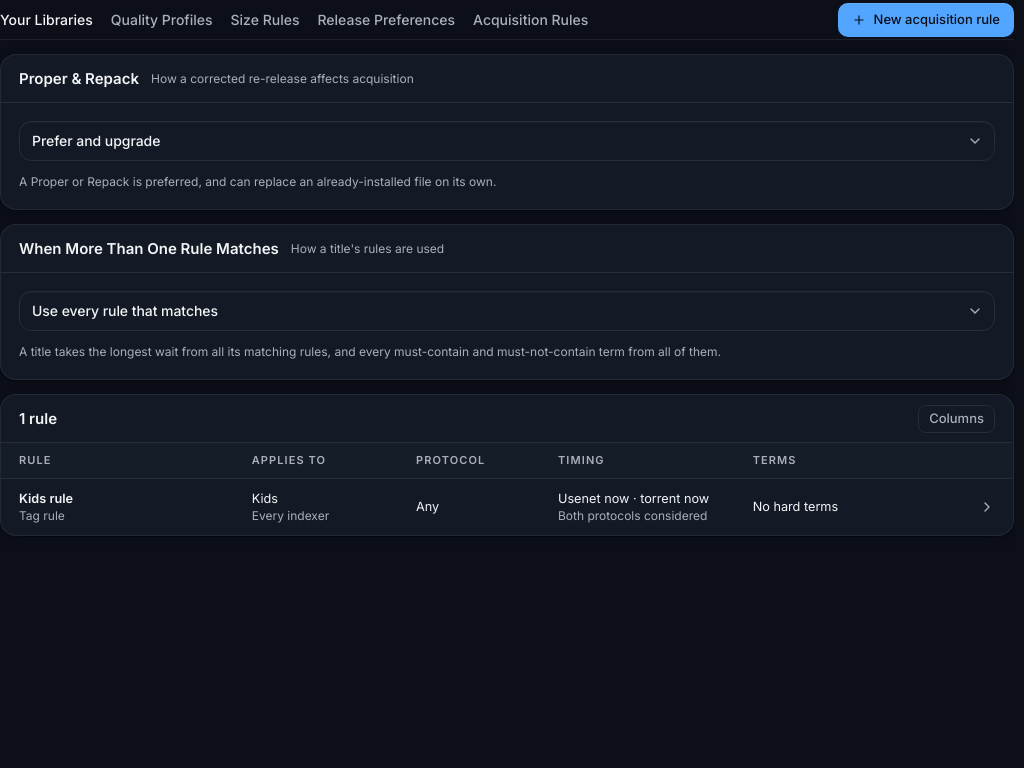
Test: acquisition rule drawer › shows the server's own message in the drawer when the save is refused
Click the text "Kids rule" at (46, 498), box [19,491,73,506]
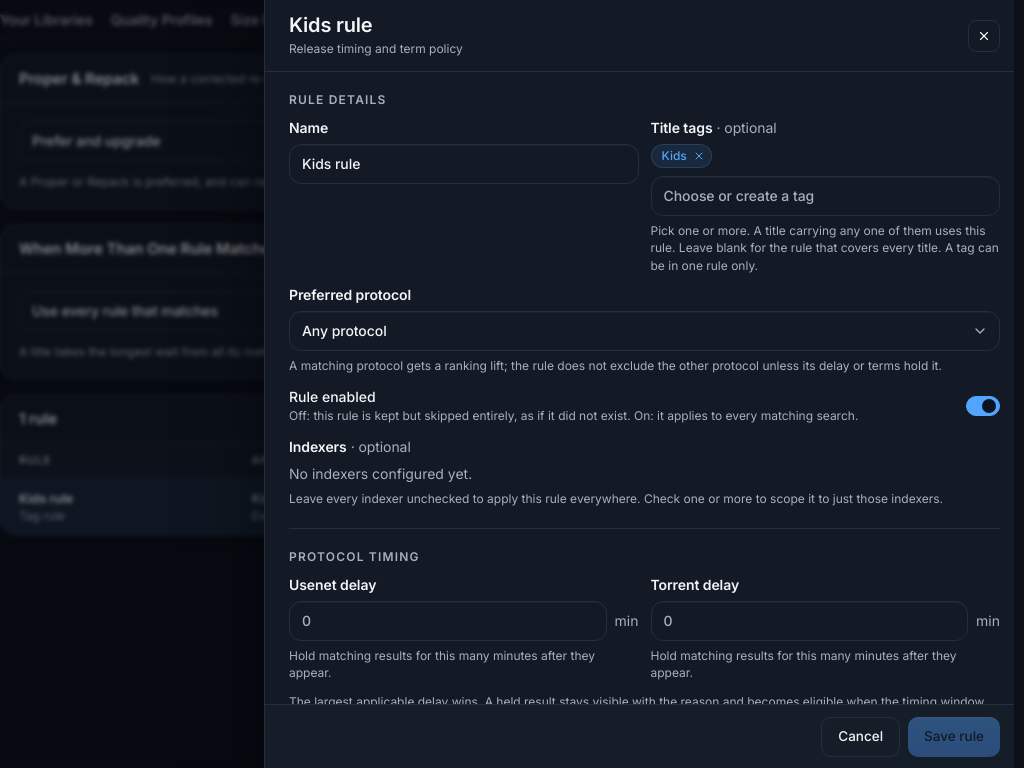
Check: the dialog is shown
Replace the text in the field with placeholder "Global release timing" with "Kids rule 2" at (464, 164), box [289,144,638,184]
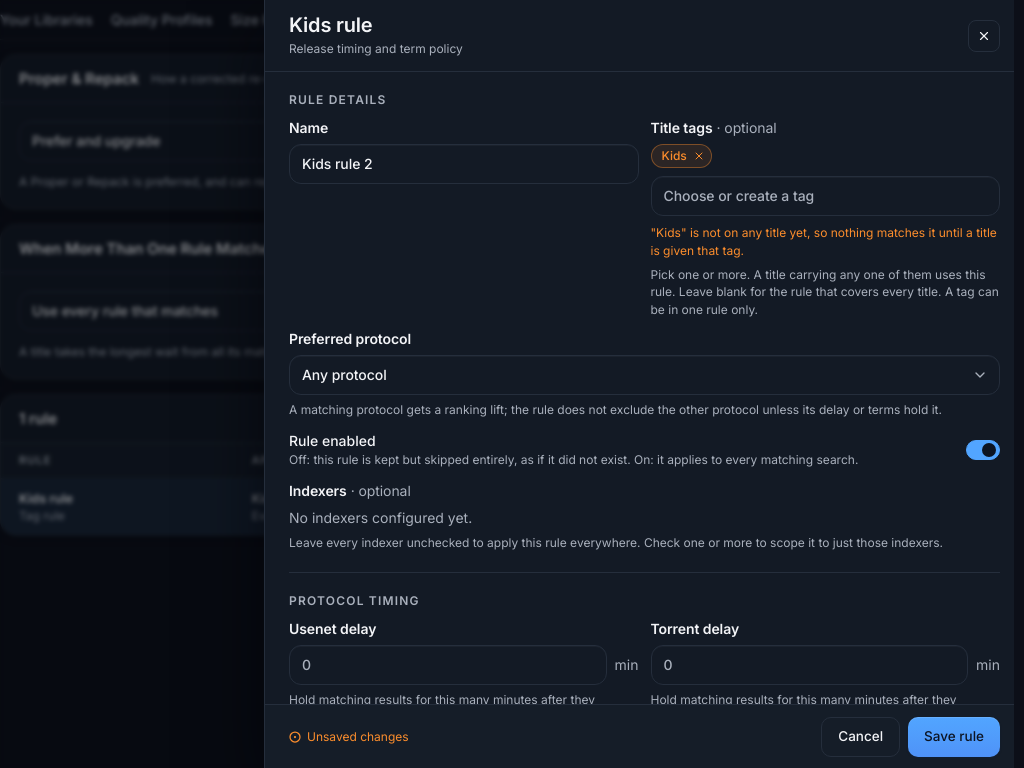
Click the button "Save rule" at (954, 736), box [908,716,1000,756]
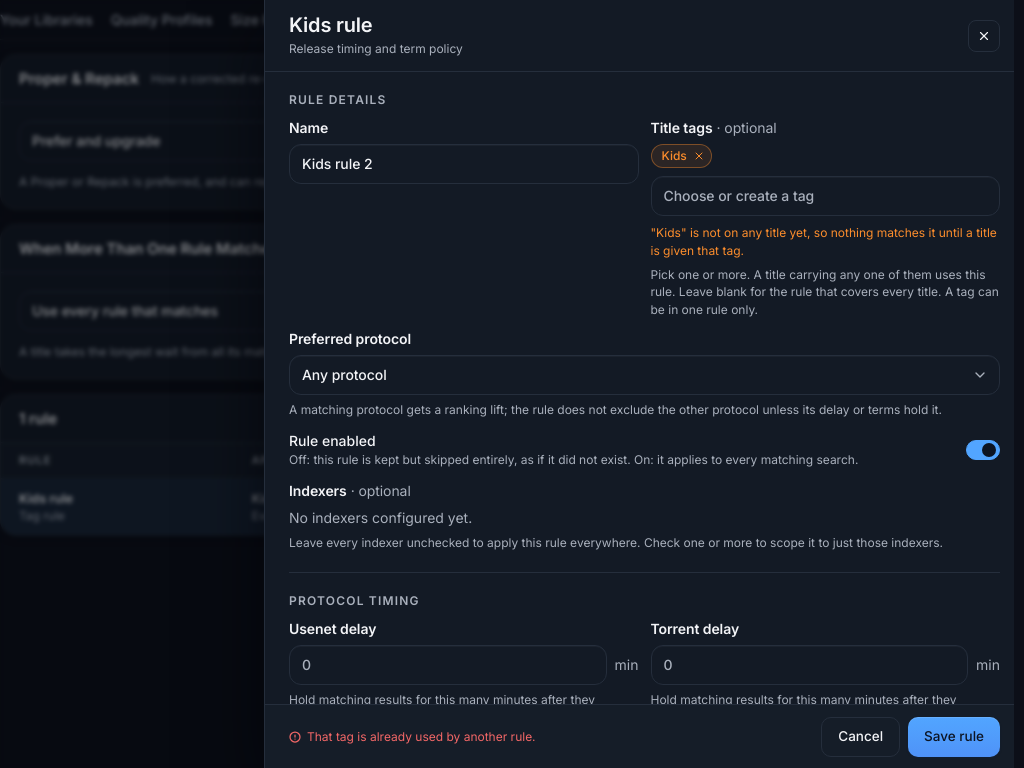
Check: the text "That tag is already used by another rule." is shown, box [307,728,536,746]
